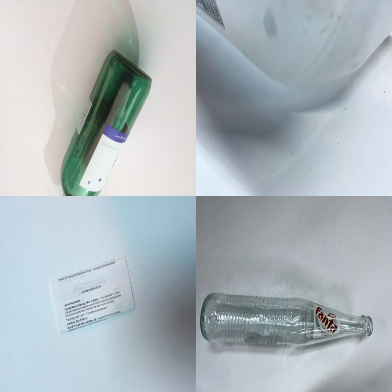glass: (61, 50, 152, 197), (200, 293, 374, 347)
paper: (48, 257, 135, 334)
plastic: (197, 1, 392, 131)
